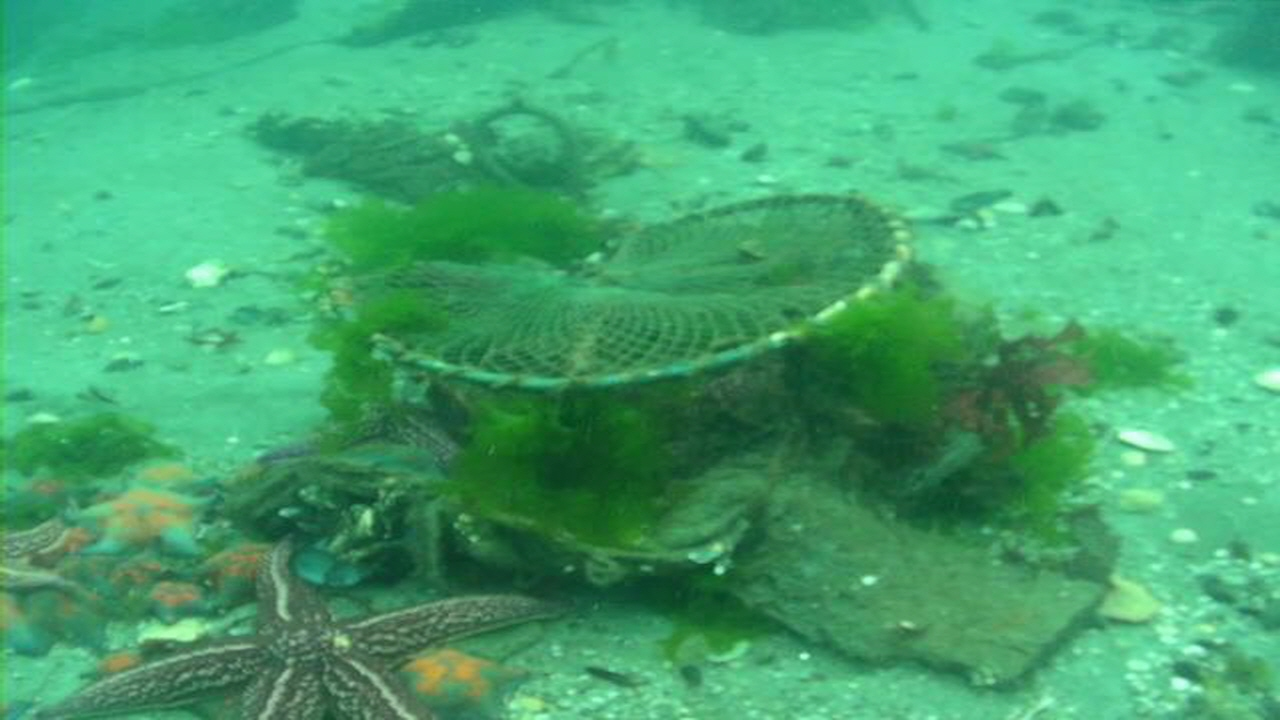circular fish trap: (311, 186, 913, 488)
